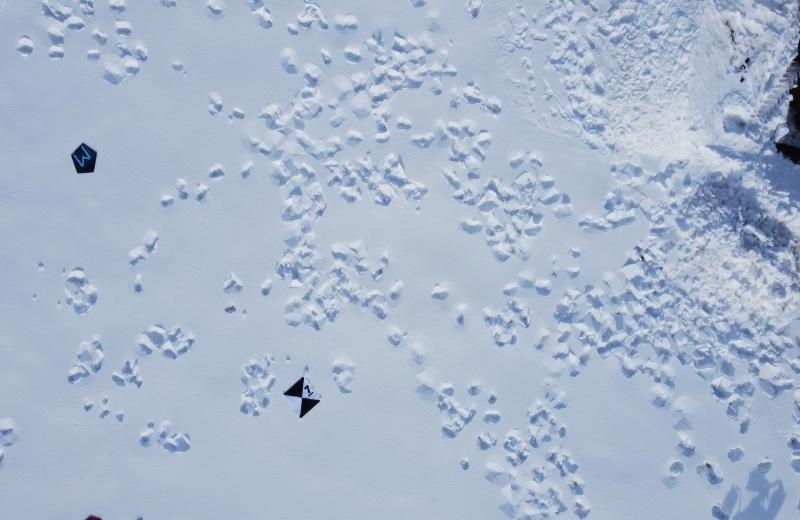Pentagon: (67, 138, 100, 176)
